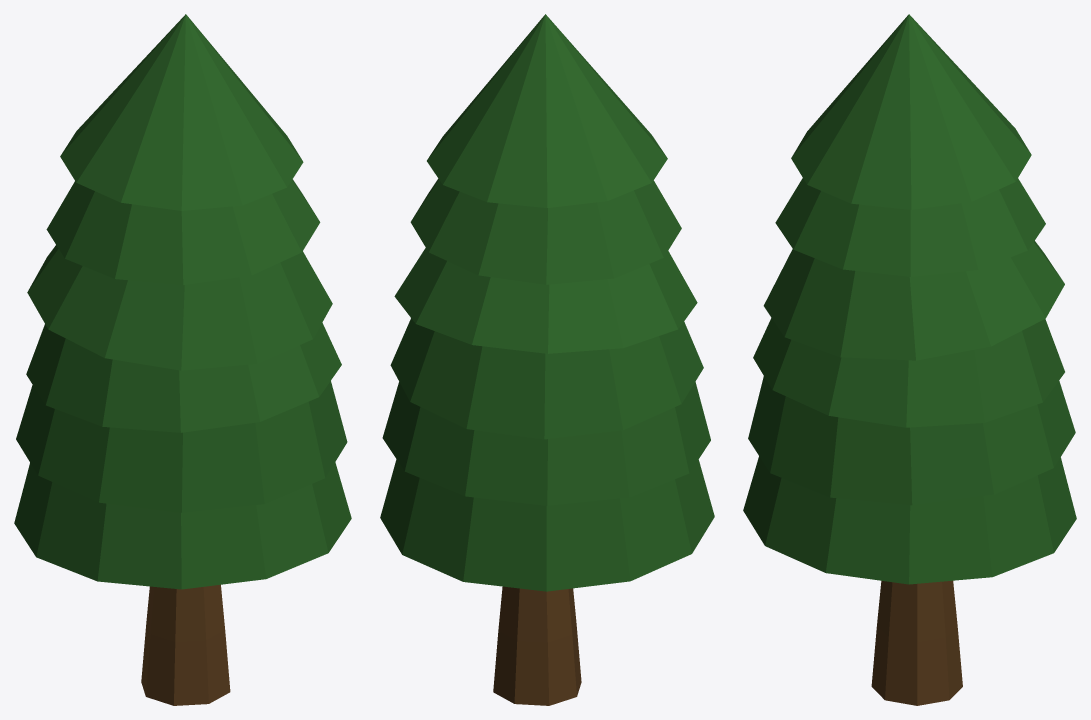
The model's file is Tree3.2.fbx.
3 renders of one model, left to right at view 1: azimuth 30°, elevation 25°; view 2: azimuth 150°, elevation 25°; view 3: azimuth 270°, elevation 25°, orthographic.
Parts seen in each view (by area): view 1: Tree3.2; view 2: Tree3.2; view 3: Tree3.2.
Boxes of the visible parts, box(x1,y1,x2,y2) form: Tree3.2: box(14, 14, 351, 705); Tree3.2: box(380, 14, 714, 705); Tree3.2: box(743, 14, 1076, 705).
Size of the model in its own units: 321 by 709 by 320.
